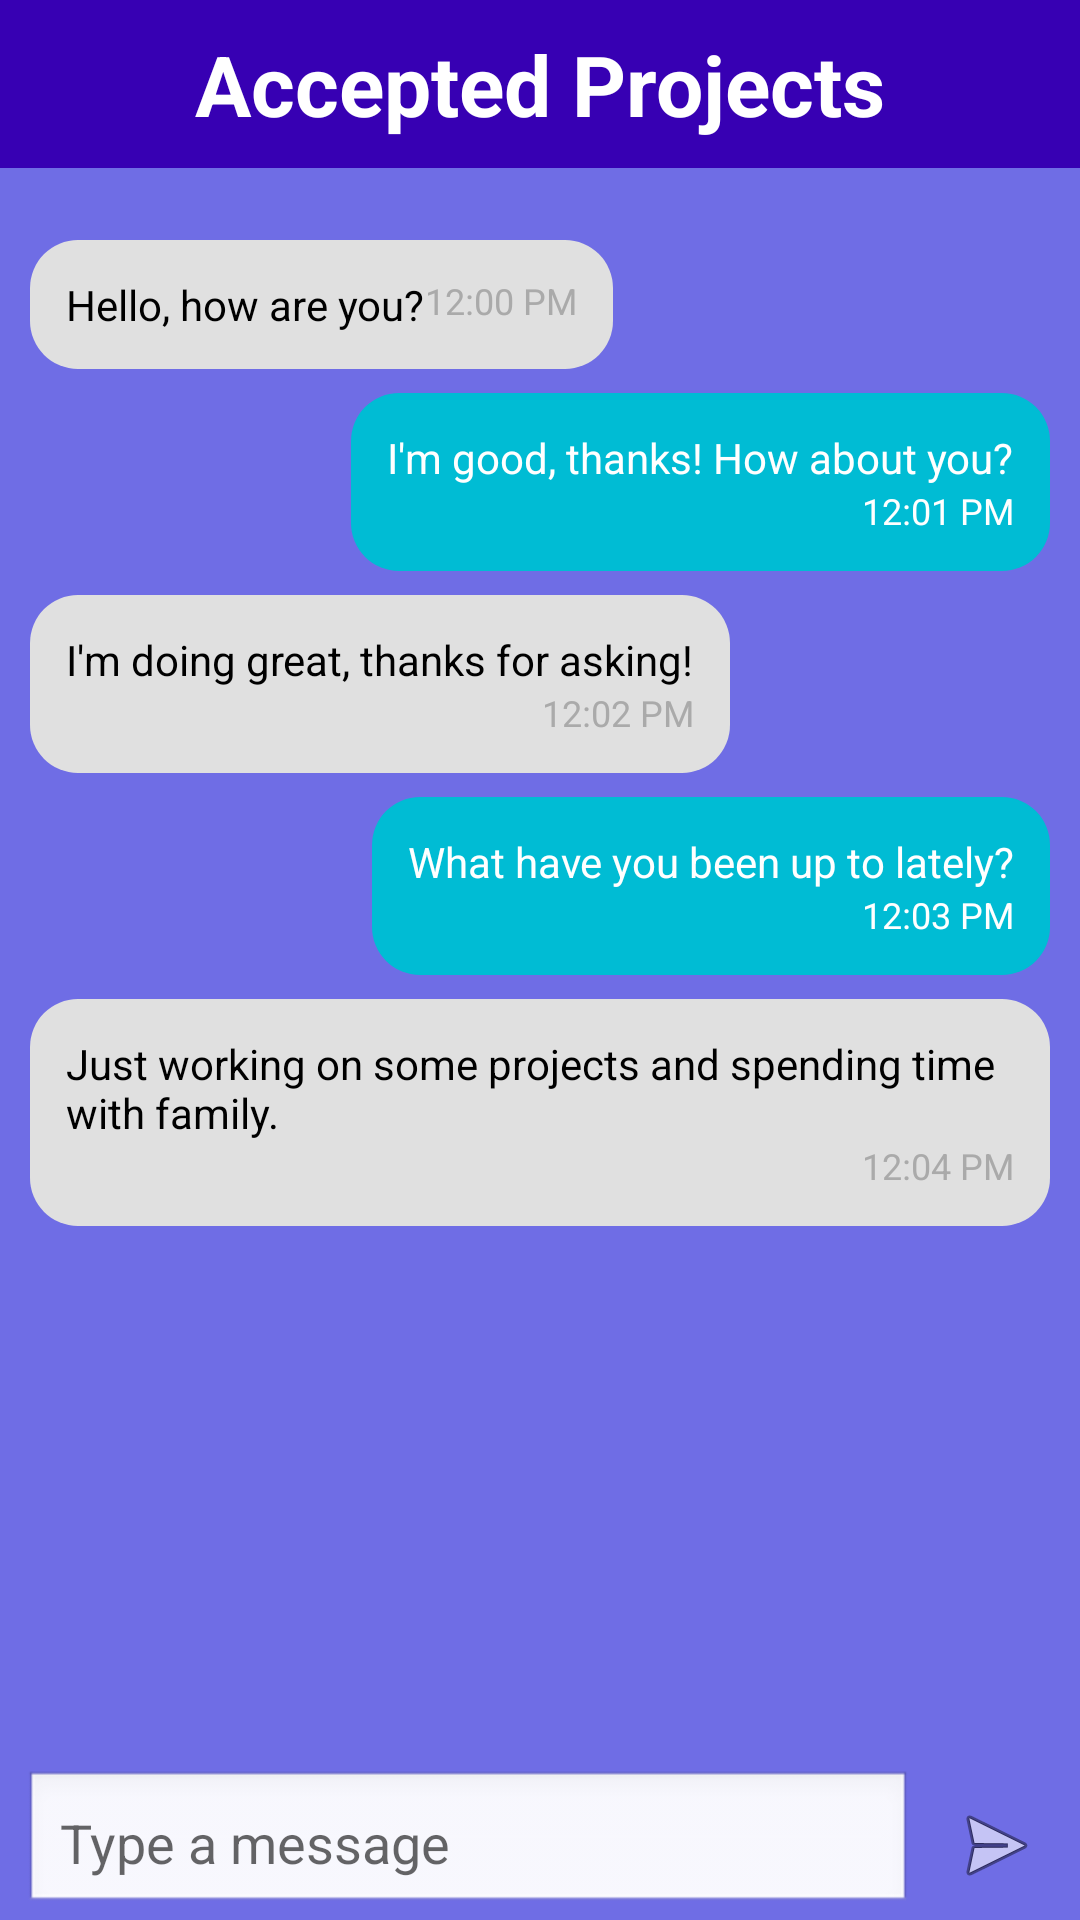

Screen size 1080 x 1920. Icon name, then its box in pixels as (x1, y1, x2, y2):
Send: (966, 1815, 1028, 1876)
